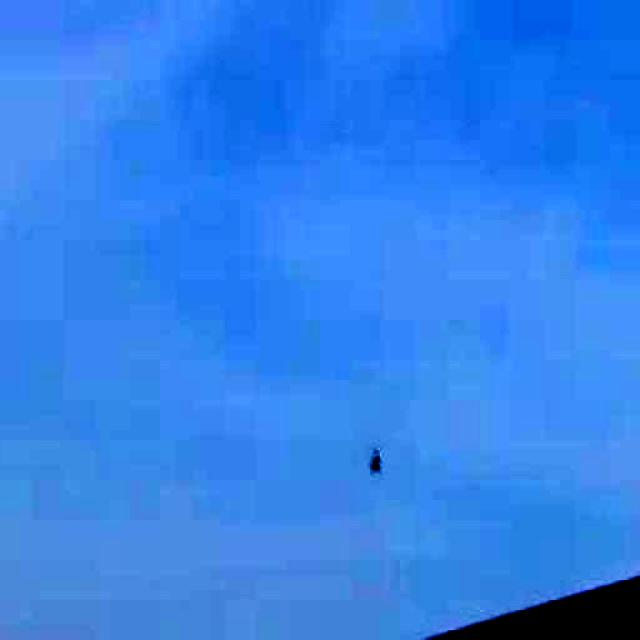drone: (346, 426, 406, 494)
